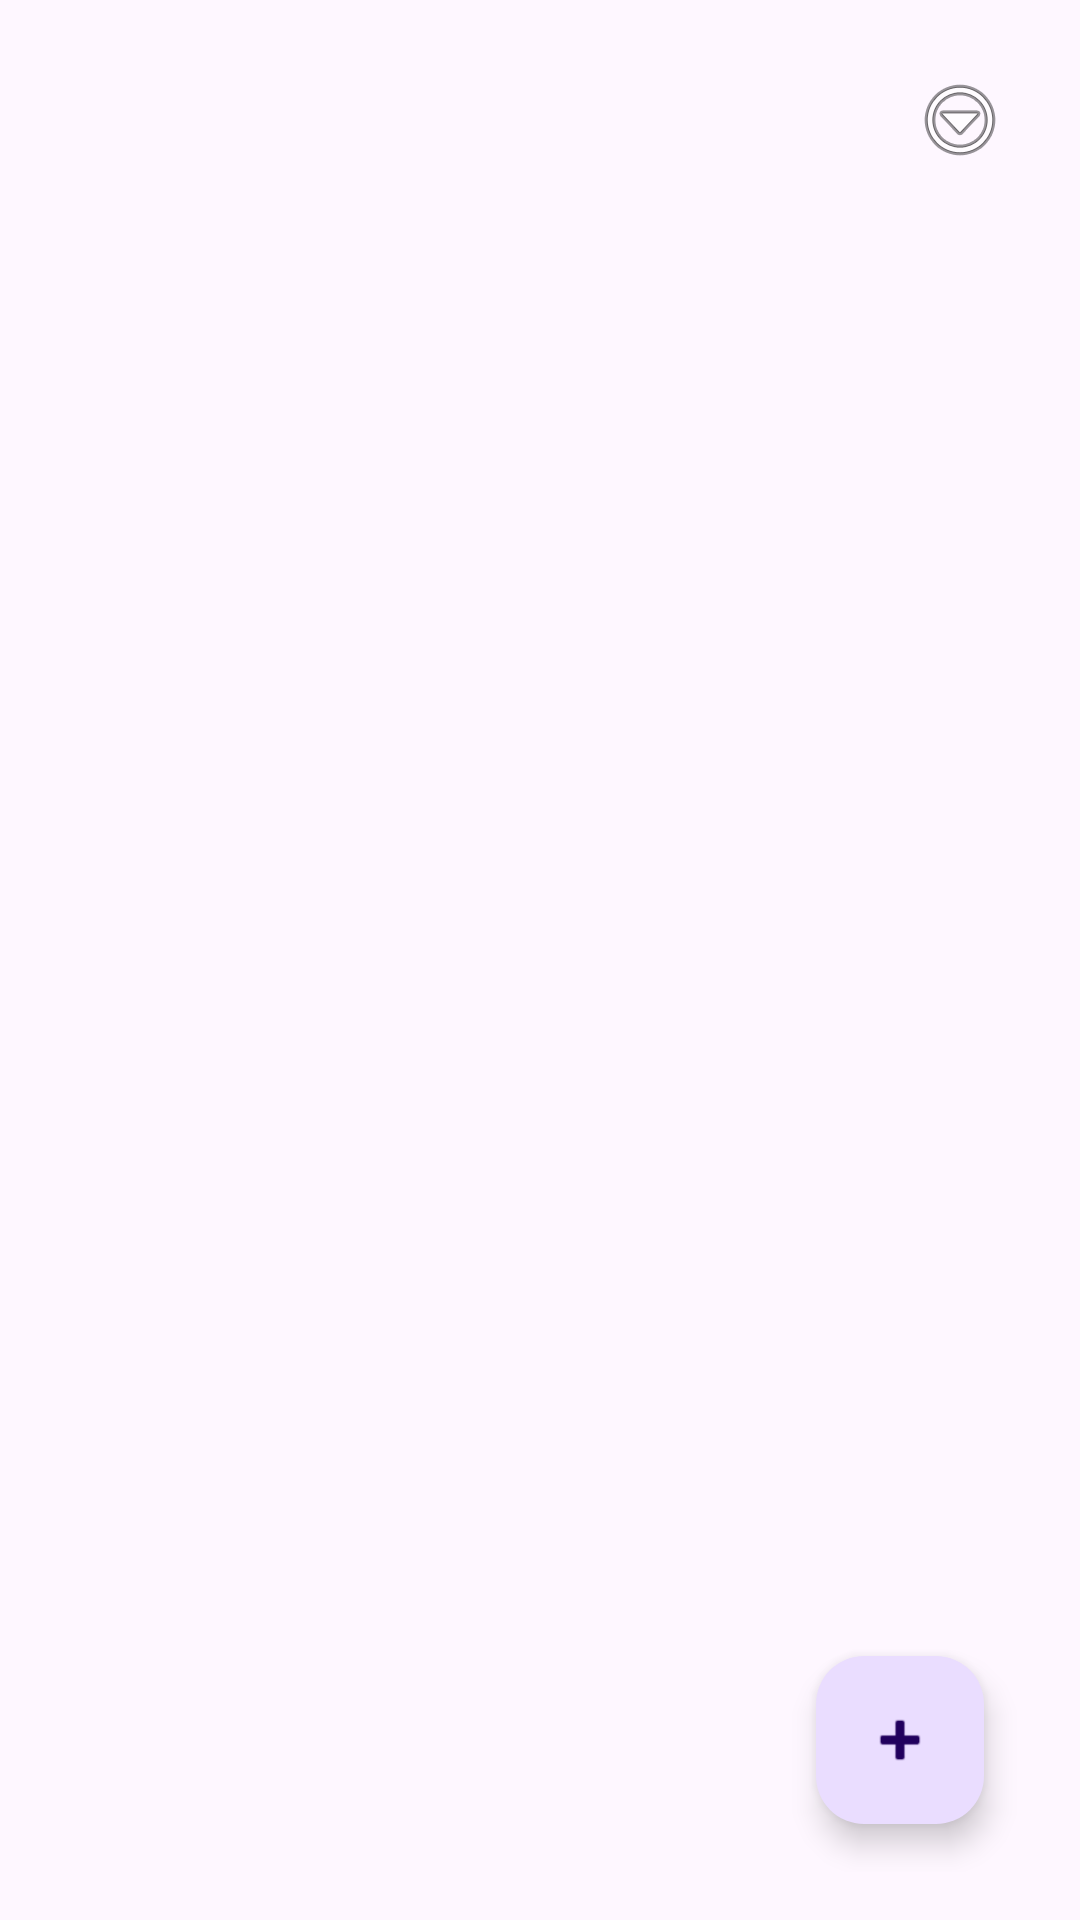

Icon bounding boxes for this 1080px x 1920px phone screenshot, format (x1, y1, x2, y2):
Add Word: (816, 1656, 984, 1824)
